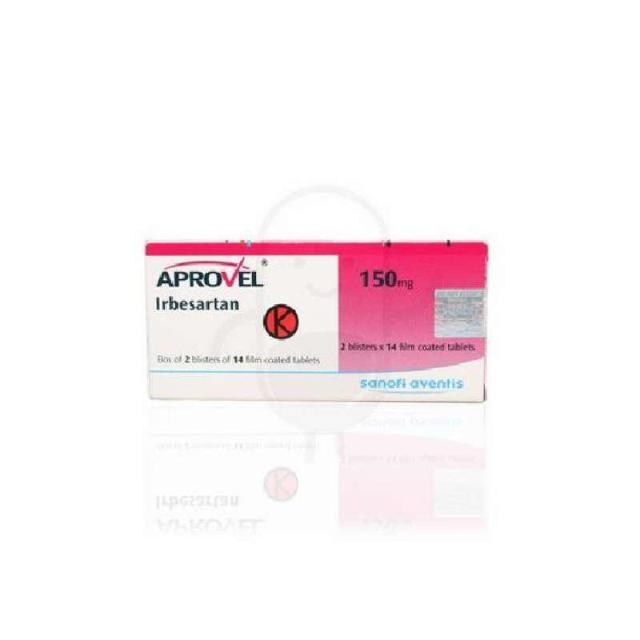drug-name: (156, 260, 262, 289)
